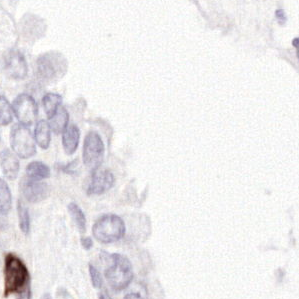Lymphocyte: (3, 254, 29, 296)
